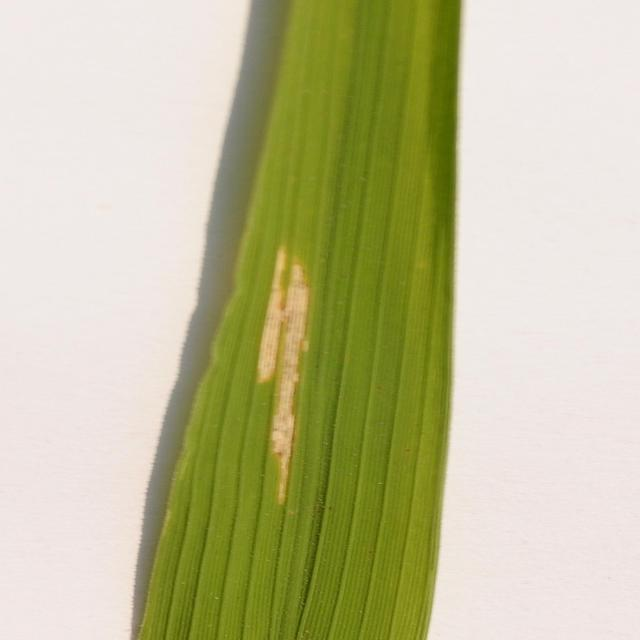Bacterial leaf blight: (247, 223, 333, 524)
